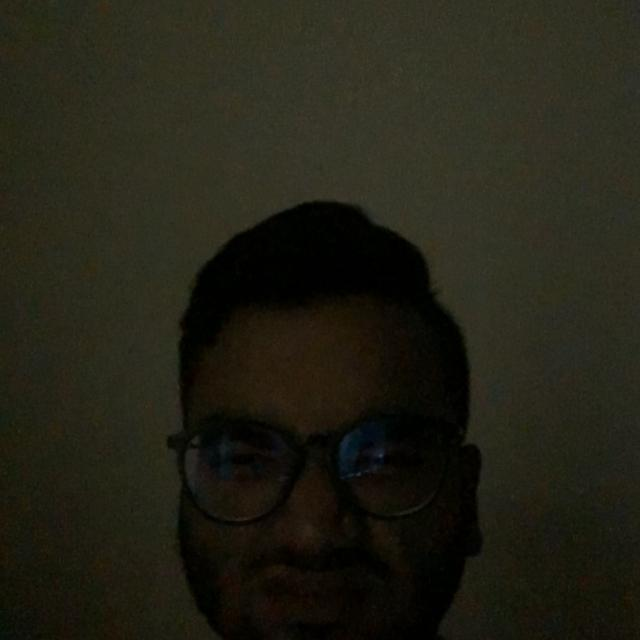Disgust: (95, 170, 536, 640)
